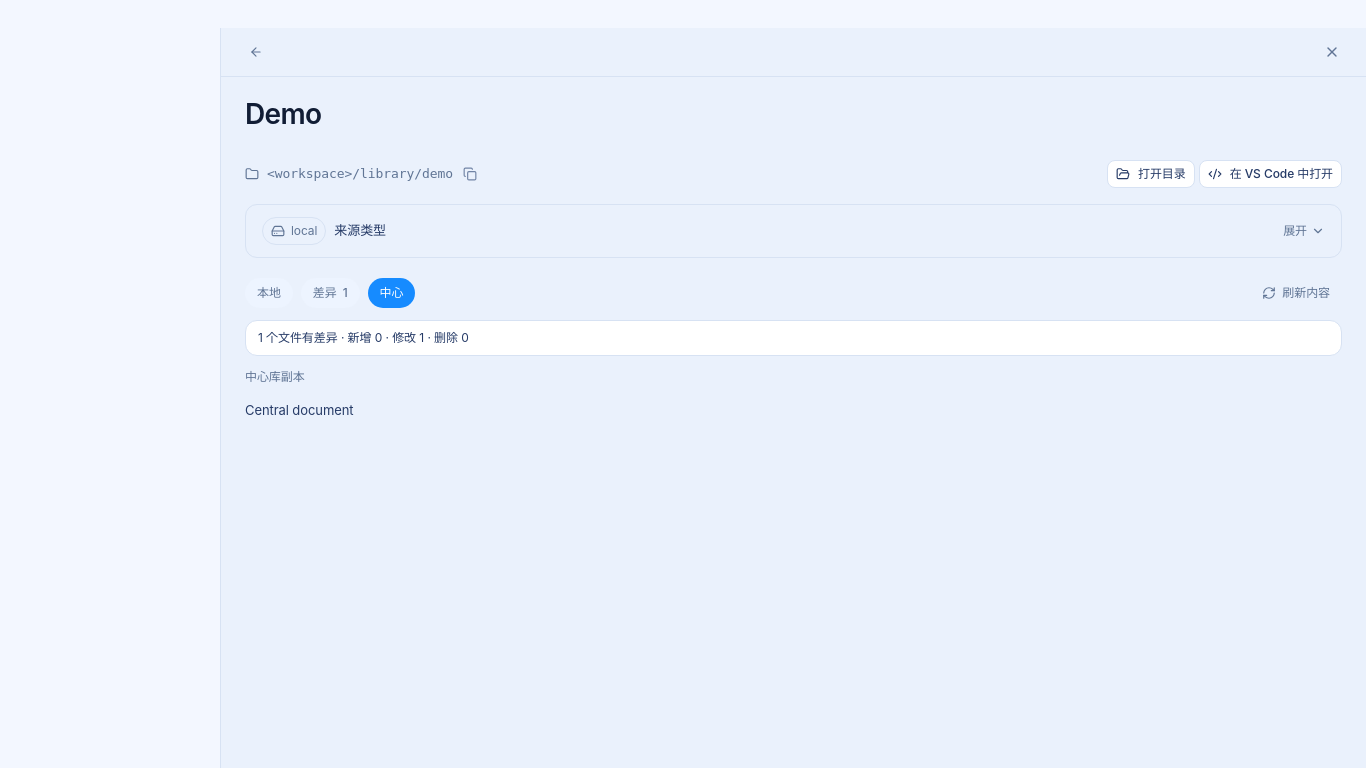
Test: shows file differences even when the main documents are identical
What coordinates should you click on to do the following:
click the tab "本地"
I would click on:
 (269, 293)
Its box is [245,278,293,308].
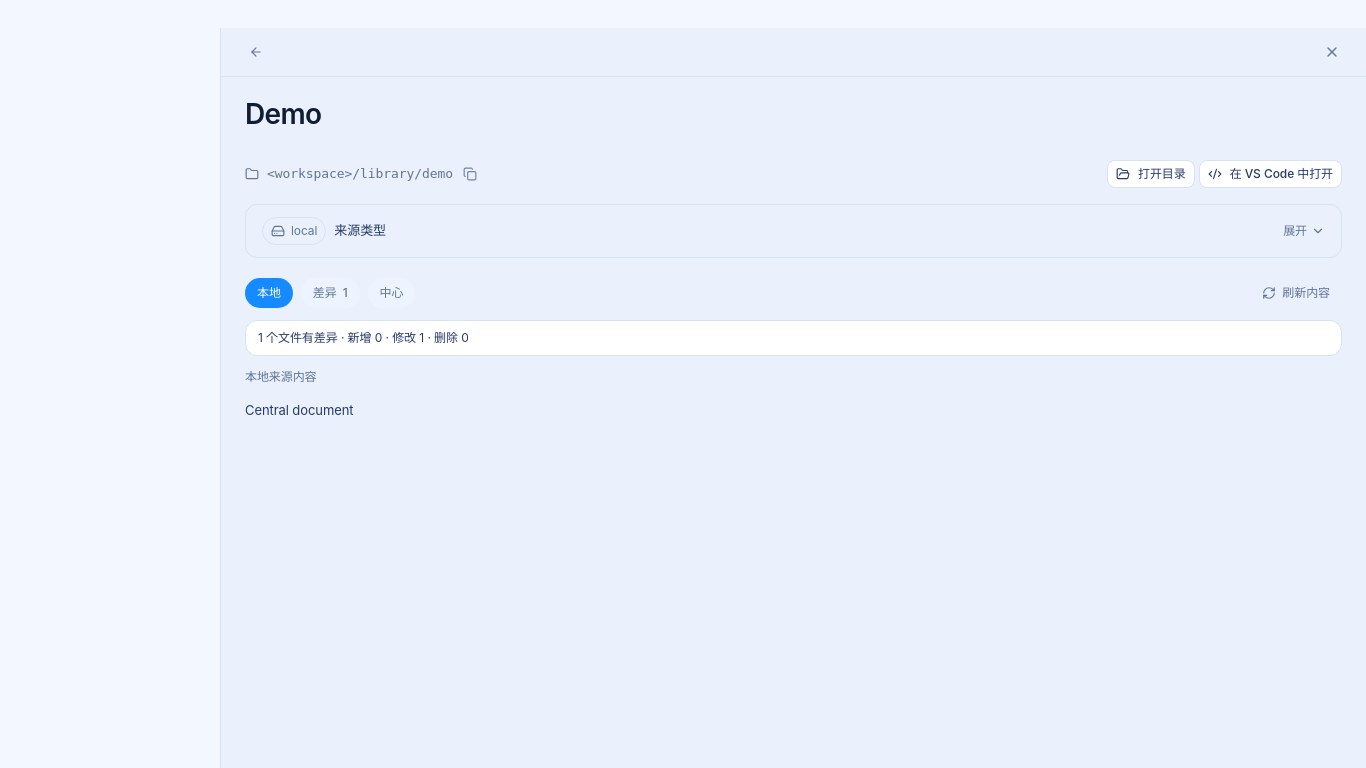
Result: the text "本地来源内容" is shown at [245,369,316,384]
What coordinates should you click on to do the following:
click the tab "差异1"
I would click on:
 (330, 293)
Its box is [301,278,360,308].
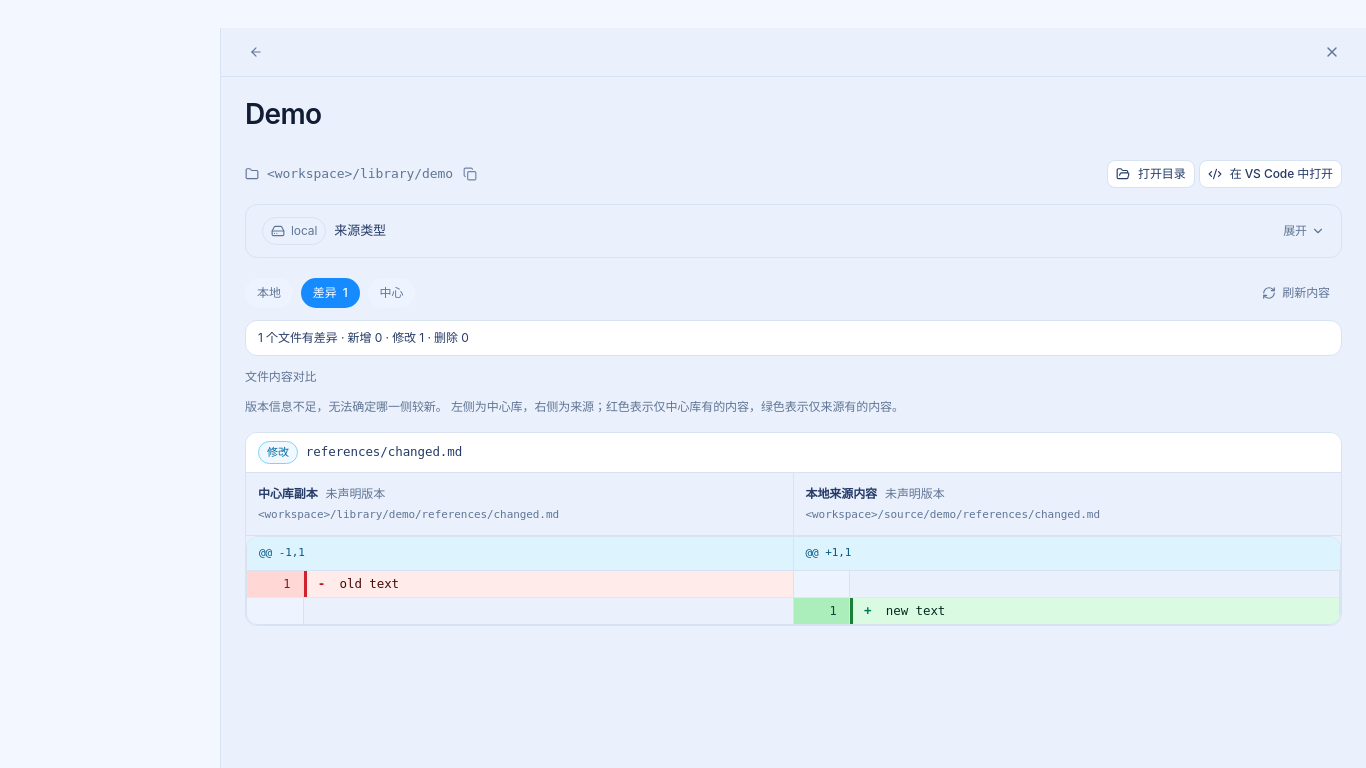
Result: the text "references/changed.md" is shown at [306,444,462,459]
Result: the text "文件内容对比" is shown at [245,369,316,384]
Result: the text "无法确定哪一侧较新" is shown at [245,399,448,414]
